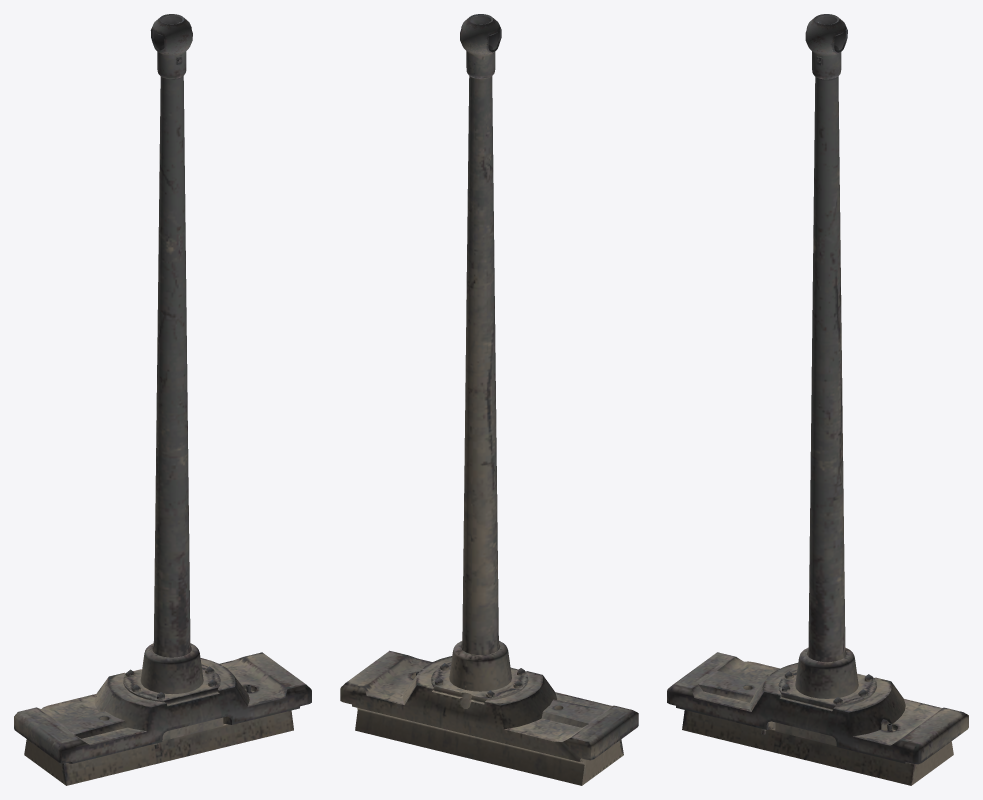
Rendered from Gun_02.glb.
3 renders of one model, left to right at view 1: azimuth 30°, elevation 25°; view 2: azimuth 150°, elevation 25°; view 3: azimuth 330°, elevation 25°, orthographic.
Parts seen in each view (by area): view 1: set_0_group_0; view 2: set_0_group_0; view 3: set_0_group_0.
Boxes of the visible parts, x1=… form: set_0_group_0: x1=14, y1=14, x2=311, y2=785; set_0_group_0: x1=340, y1=14, x2=638, y2=785; set_0_group_0: x1=667, y1=14, x2=968, y2=785.
Bounding box in the file's own units: 1.59 × 4.35 × 0.5607.
1 material, 1 textured.
